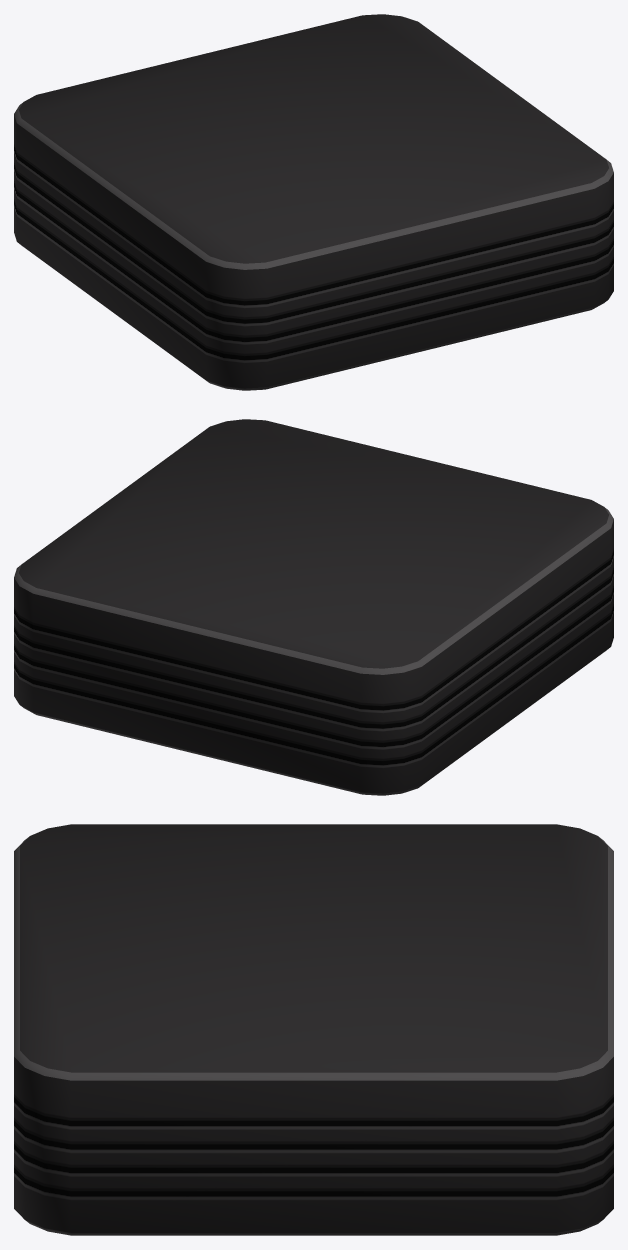
3 renders of one model, top to bottom at view 1: azimuth 30°, elevation 25°; view 2: azimuth 150°, elevation 25°; view 3: azimuth 270°, elevation 25°, orthographic. The views are drawn at different scales.
Visible parts, largest first — view 1: Lo-BODY_01; view 2: Lo-BODY_01; view 3: Lo-BODY_01.
Boxes of the visible parts, x1,y1,x2,y2 form: Lo-BODY_01: (14,14,613,390); Lo-BODY_01: (14,419,613,795); Lo-BODY_01: (14,824,613,1235).
Size of the model in its own units: 0.1 by 0.0306 by 0.1.
Materials: 2 (2 with a texture image).
